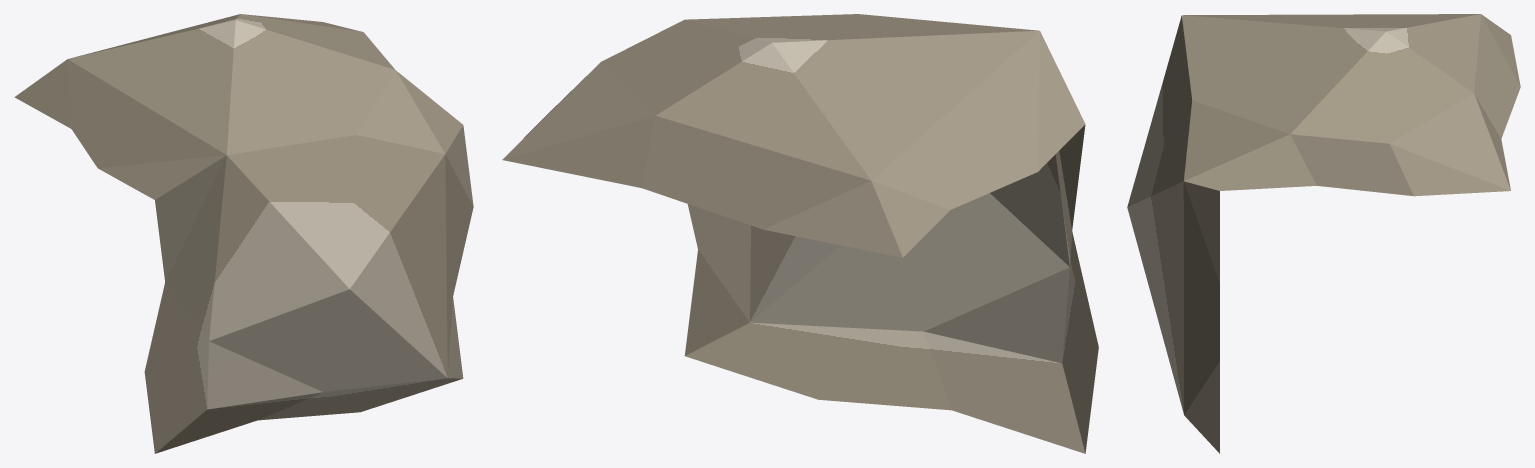
The model's file is SoftQuarterWallCorner_02.fbx.
3 renders of one model, left to right at view 1: azimuth 30°, elevation 25°; view 2: azimuth 150°, elevation 25°; view 3: azimuth 270°, elevation 25°, orthographic. The views are drawn at different scales.
Parts seen in each view (by area): view 1: SoftQuarterWallCorner_02; view 2: SoftQuarterWallCorner_02; view 3: SoftQuarterWallCorner_02.
Boxes of the visible parts, bbox=[...] form: SoftQuarterWallCorner_02: bbox=[14, 14, 473, 453]; SoftQuarterWallCorner_02: bbox=[502, 14, 1098, 453]; SoftQuarterWallCorner_02: bbox=[1127, 14, 1520, 453].
Bounding box in the file's own units: 53.46 × 53.46 × 53.46.
1 material, 1 textured.
